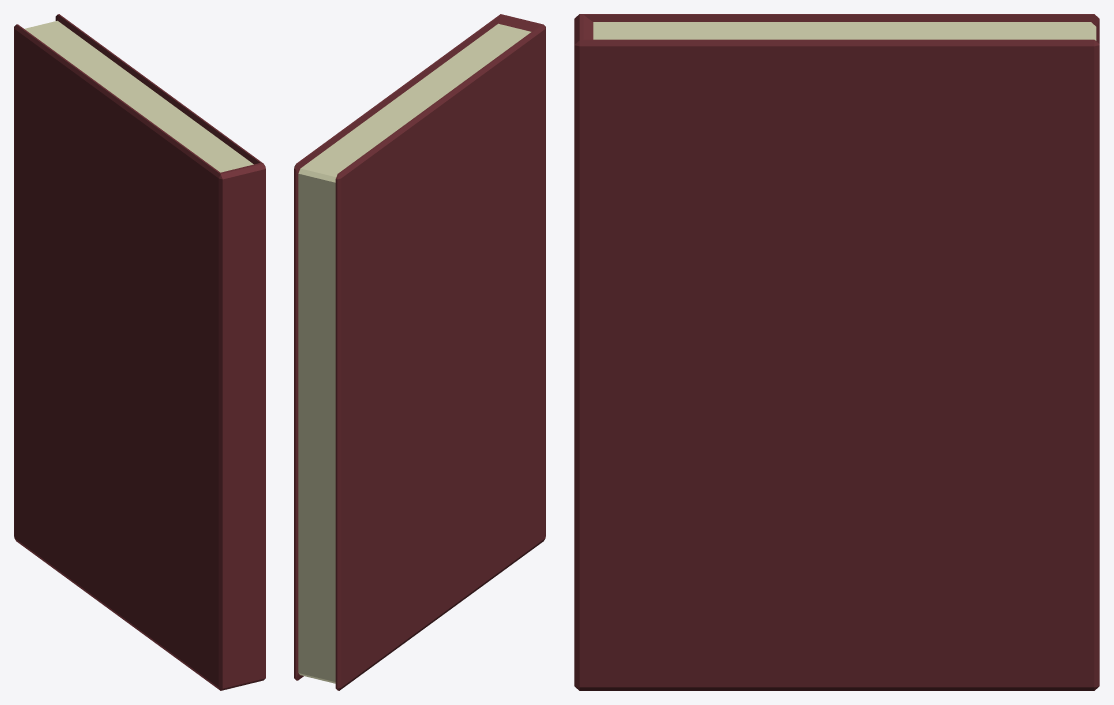
File: BOOK_11.fbx
3 views of the same model, side by side, from view 1: azimuth 30°, elevation 25°; view 2: azimuth 150°, elevation 25°; view 3: azimuth 270°, elevation 25° (orthographic). The views are drawn at different scales.
Parts seen in each view (by area): view 1: BOOK_11; view 2: BOOK_11; view 3: BOOK_11.
Part boxes in pixels (x1,y1,x2,y2): BOOK_11: [14, 14, 265, 690]; BOOK_11: [294, 14, 545, 690]; BOOK_11: [574, 14, 1099, 690].
Size of the model in its own units: 1.52 by 16 by 11.71.
